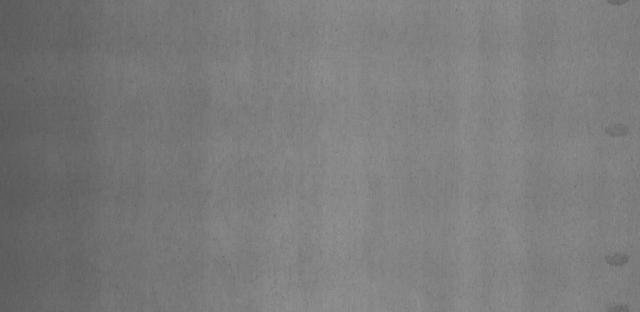oil_spot: (599, 114, 632, 142), (606, 250, 630, 269)
